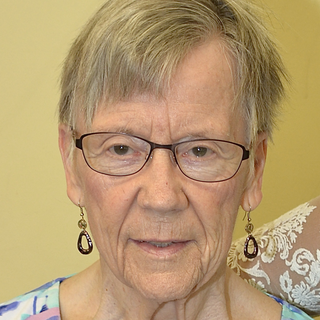eye: (178, 141, 219, 163), (98, 142, 140, 160)
